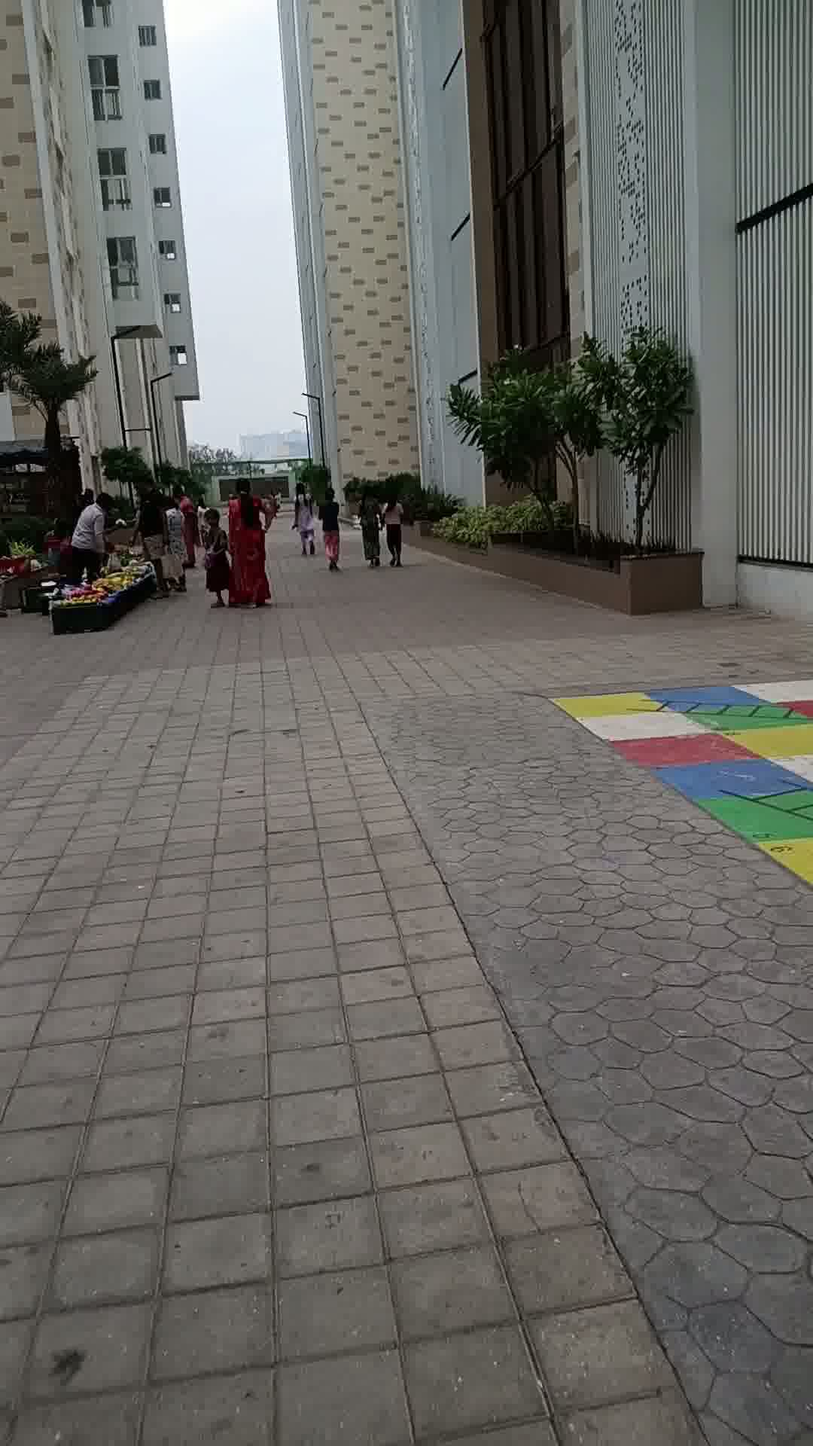person: (223, 467, 275, 612), (129, 458, 171, 616), (195, 492, 244, 600), (350, 467, 392, 584), (66, 480, 109, 585), (167, 459, 198, 579), (285, 465, 319, 566), (378, 475, 409, 583), (314, 475, 345, 568)
tree: (558, 309, 725, 631), (423, 304, 584, 572), (8, 315, 101, 560), (93, 430, 140, 531)
